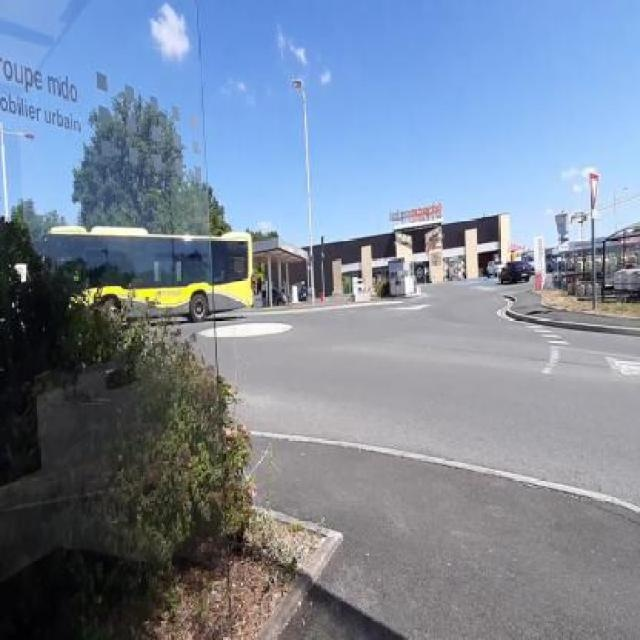Bus: (36, 228, 253, 324)
